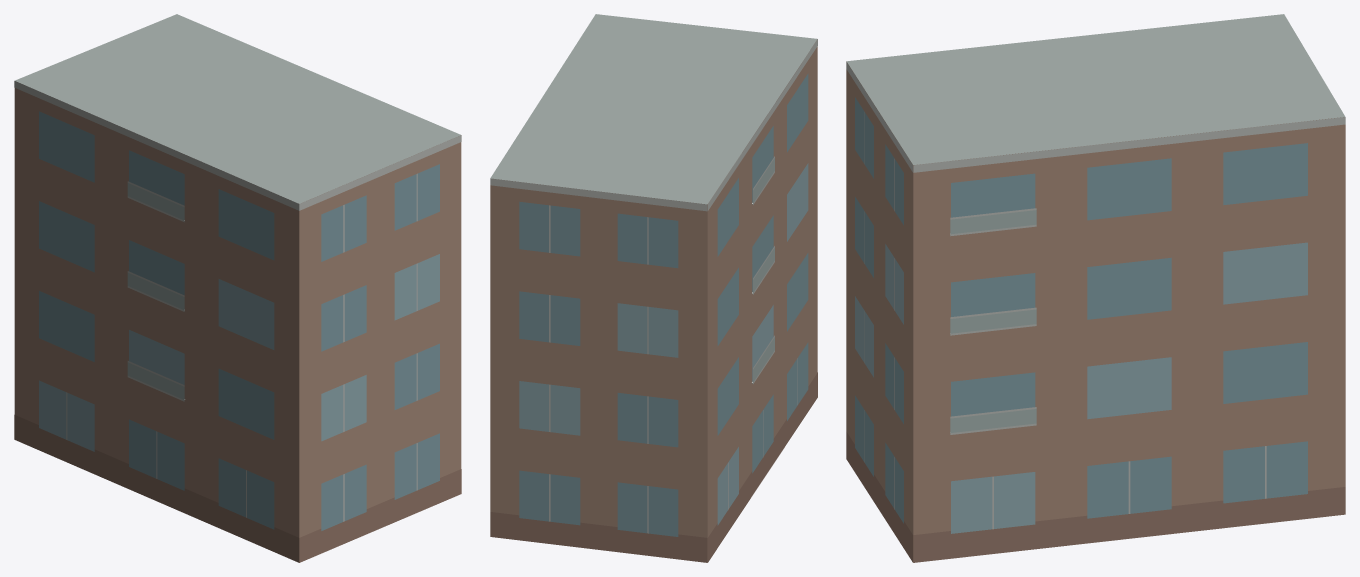
The model's file is survey-upis-32672437.glb.
3 renders of one model, left to right at view 1: azimuth 30°, elevation 25°; view 2: azimuth 150°, elevation 25°; view 3: azimuth 270°, elevation 25°, orthographic. The views are drawn at different scales.
Parts seen in each view (by area): view 1: survey-upis-32672437.tmp; view 2: survey-upis-32672437.tmp; view 3: survey-upis-32672437.tmp.
Part boxes in pixels (x1,y1,x2,y2): survey-upis-32672437.tmp: (14, 14, 461, 562); survey-upis-32672437.tmp: (490, 14, 817, 562); survey-upis-32672437.tmp: (846, 14, 1345, 562).
Size of the model in its own units: 10.3 by 12.63 by 14.37.
